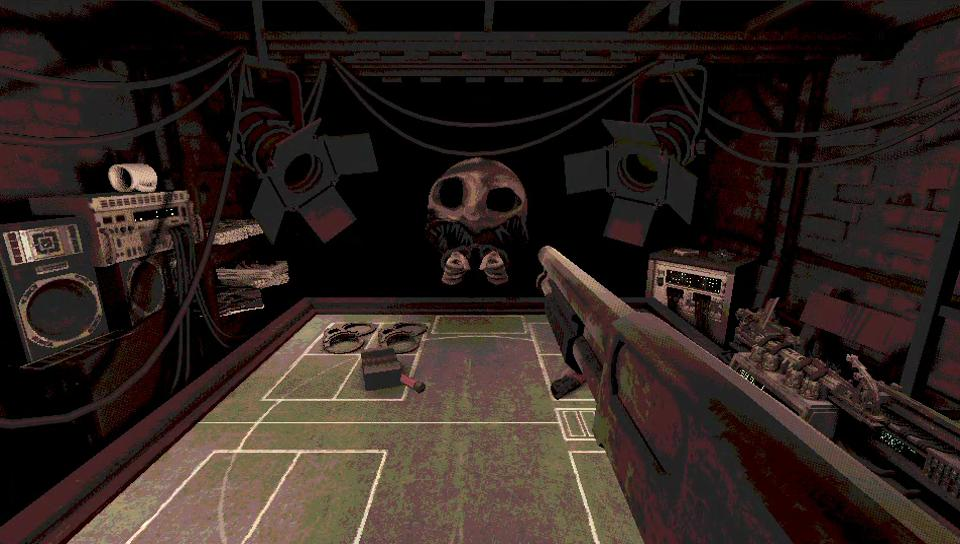ally: (54, 407, 655, 543)
cigar: (361, 347, 403, 390)
emptyspace: (129, 447, 300, 543), (248, 449, 388, 543), (263, 352, 357, 398)
enemyspace: (203, 303, 593, 411)
gun: (538, 246, 959, 543)
handcuff: (322, 322, 376, 353), (379, 322, 428, 352)
